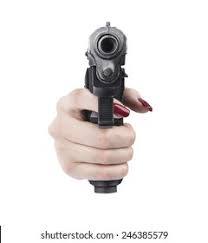gun: (54, 21, 141, 194)
